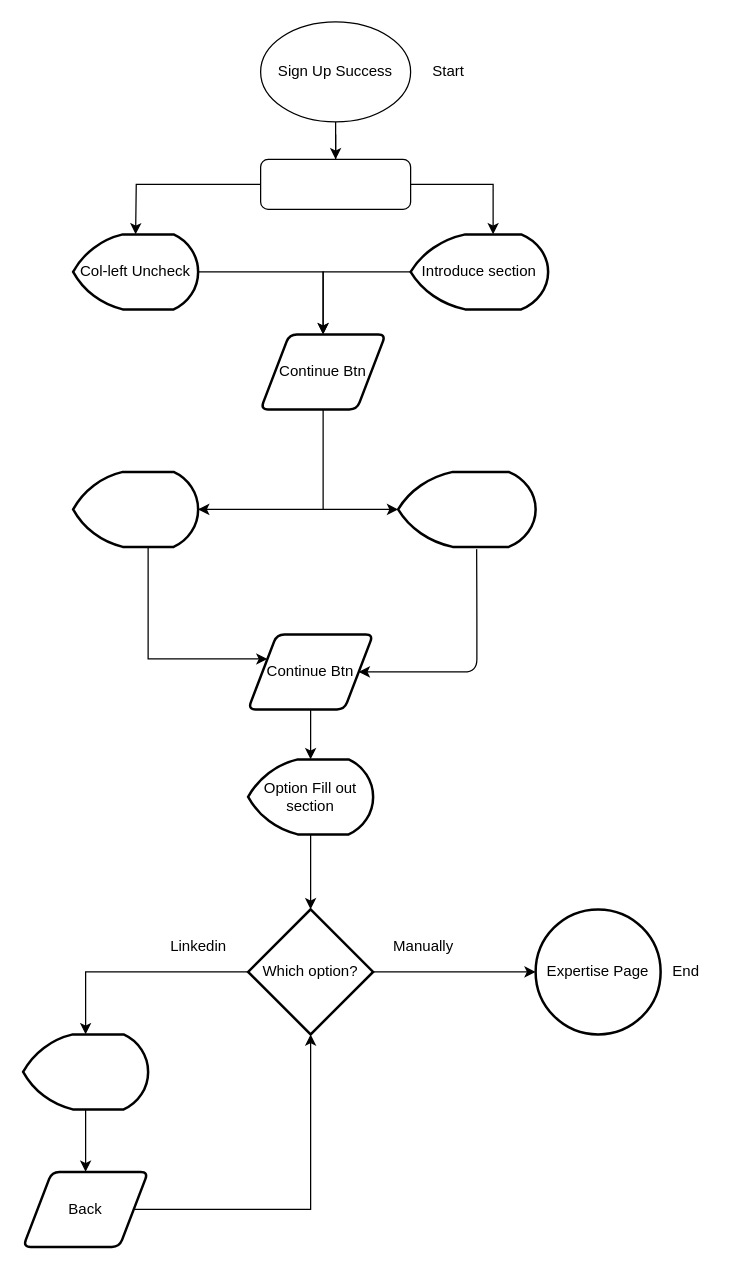
Some shapes in this 731 by 1270 pixel diagram are drawn without their labels. Here are the shapes that lost their labels. From the top down, the centre of each, then its label:
At point 335,183: "GettingStarted Page".
At point 135,509: "Col-left Check".
At point 466,509: "Guideline section".
At point 85,1071: "Linkedin section".
